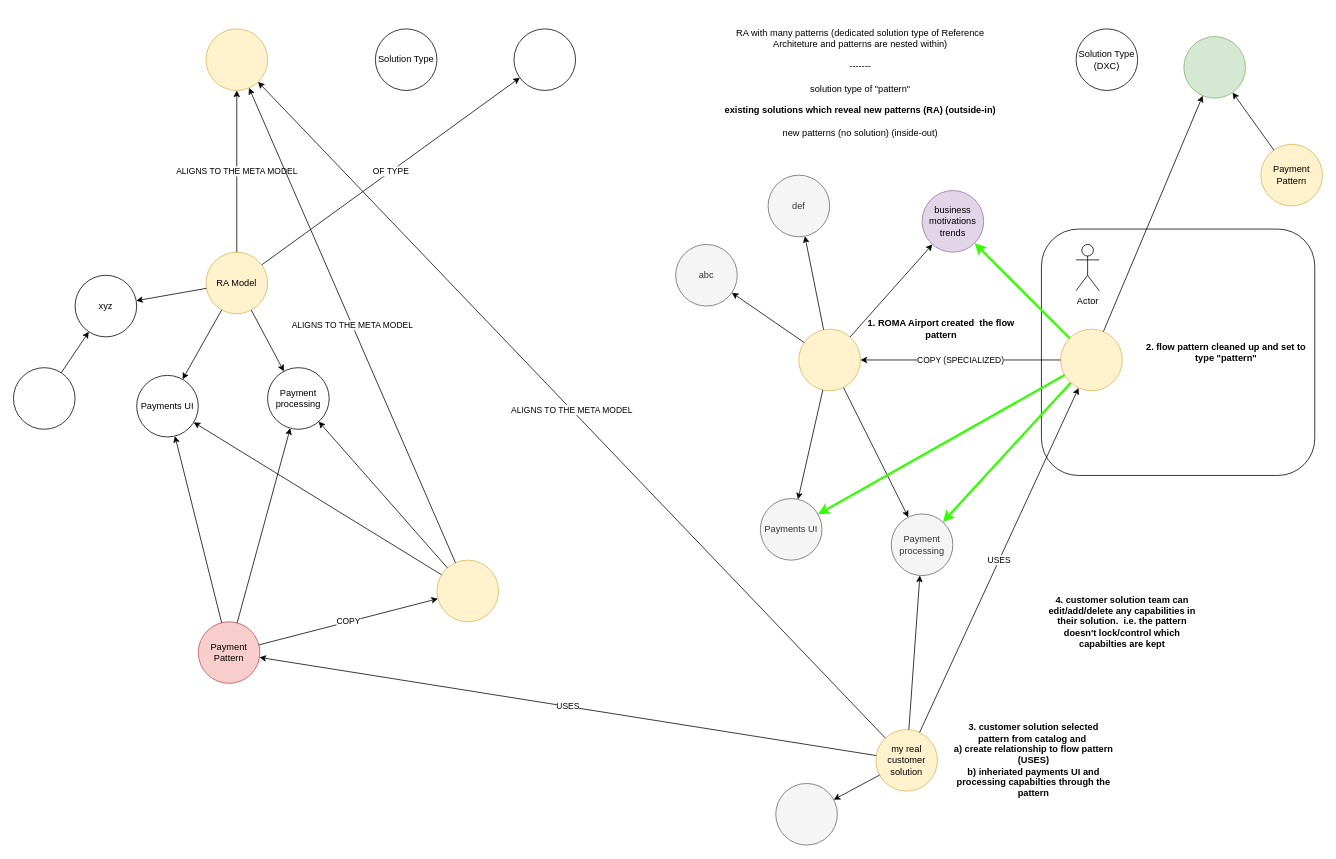
Some shapes in this 1336 by 859 pixel diagram are drawn without their labels. The shapes that lost their labels are listed below. From the top down, each one's centre as x and y in pixels, then its label:
(236,59): Solution Meta Model
(544,59): Solution SubType
(1214,67): Solution SubType (Pattern)
(829,359): ROMA Airport
(1091,359): flow pattern
(44,398): xyz pattern
(467,590): Customer Solution
(806,814): Payments UI 2021
